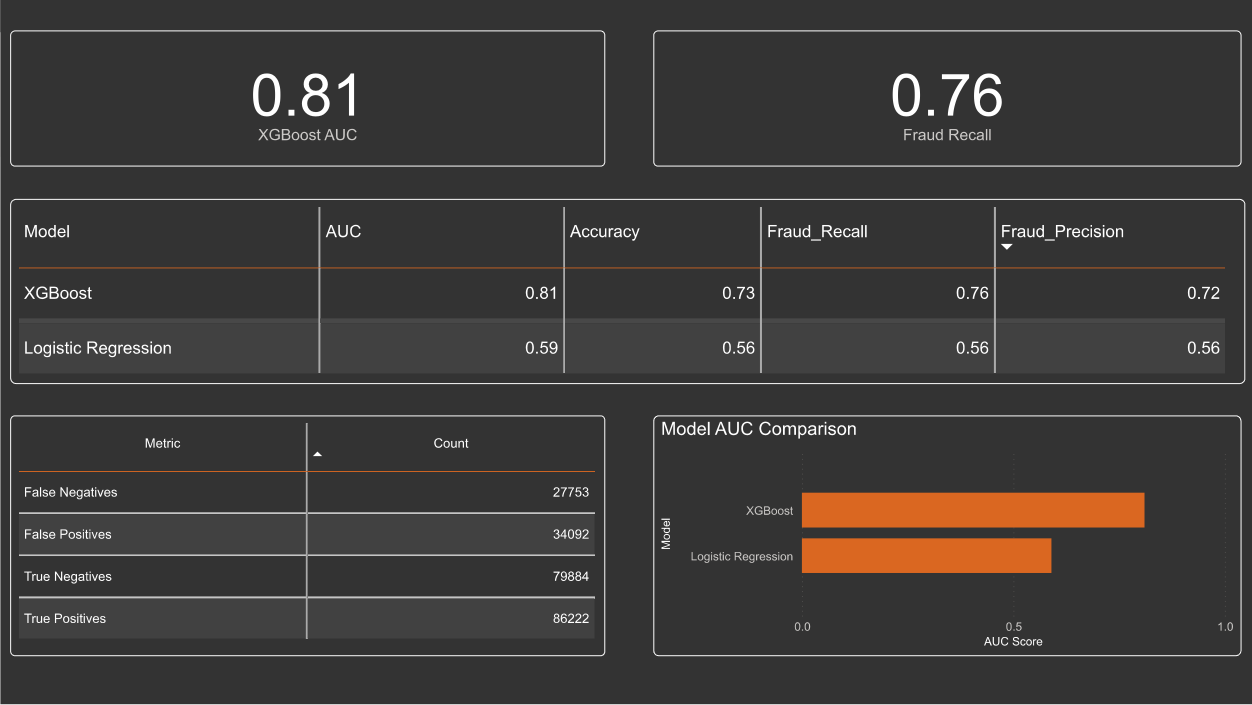

What the dashboard file says about the page in this screenshot:
{"tool":"powerbi","page":{"name":"Model Performance","canvas":[1280,720],"ordinal":2},"visuals":[{"type":"card","fields":{"Values":["Max(model_metrics.AUC)"]},"box":[10.4,32.4,607.6,138.9],"z":0},{"type":"card","fields":{"Values":["Max(model_metrics.Fraud_Recall)"]},"box":[666.6,32.4,601.8,138.9],"z":1000},{"type":"tableEx","fields":{"Values":["model_metrics.Model","model_metrics.AUC","model_metrics.Accuracy","model_metrics.Fraud_Recall","model_metrics.Fraud_Precision"]},"box":[10.4,203.7,1261.5,189.8],"z":2000},{"type":"clusteredBarChart","title":"Model AUC Comparison","fields":{"Category":["model_metrics.Model"],"Y":["Sum(model_metrics.AUC)"]},"box":[666.6,424.7,601.8,246.5],"z":3000},{"type":"tableEx","fields":{"Values":["confusion_matrix.Metric","confusion_matrix.Count"]},"box":[10.4,424.7,607.6,246.5],"z":4000}]}

Visuals, with their boxes in screenshot pixels (x1, y1, x2, y2), scaled from the page's 1280x720 canvas onto the 1252x705 screenshot:
card - Max(model_metrics.AUC): {"x1": 10, "y1": 32, "x2": 604, "y2": 168}
card - Max(model_metrics.Fraud_Recall): {"x1": 652, "y1": 32, "x2": 1241, "y2": 168}
tableEx - model_metrics.Model x model_metrics.AUC: {"x1": 10, "y1": 199, "x2": 1244, "y2": 385}
"Model AUC Comparison" clusteredBarChart: {"x1": 652, "y1": 416, "x2": 1241, "y2": 657}
tableEx - confusion_matrix.Metric x confusion_matrix.Count: {"x1": 10, "y1": 416, "x2": 604, "y2": 657}
